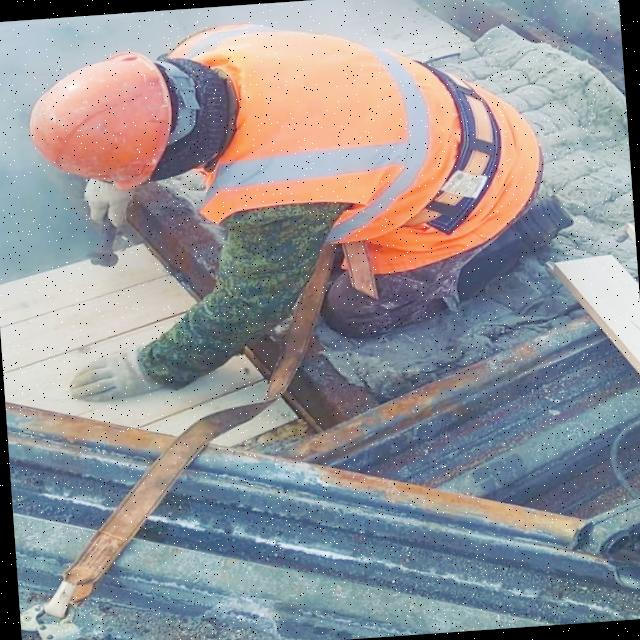Helmet: (22, 50, 179, 195)
Jacket: (166, 34, 502, 220)
